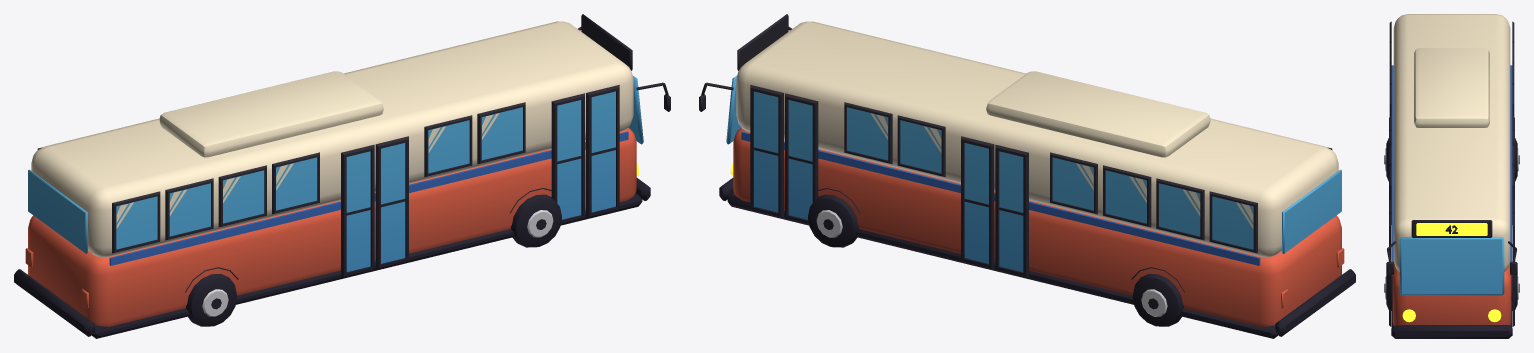
Rendered from bus.glb.
The picture shows the model from 3 angles, left to right: view 1: azimuth 30°, elevation 25°; view 2: azimuth 150°, elevation 25°; view 3: azimuth 270°, elevation 25°; orthographic projection. The views are drawn at different scales.
Parts seen in each view (by area): view 1: bus; view 2: bus; view 3: bus.
Boxes of the visible parts, left/top/right/bottom form: bus: left=14, top=14, right=670, bottom=338; bus: left=699, top=14, right=1355, bottom=338; bus: left=1384, top=14, right=1519, bottom=338.
Bounding box in the file's own units: 11.47 × 3.2 × 2.85.
